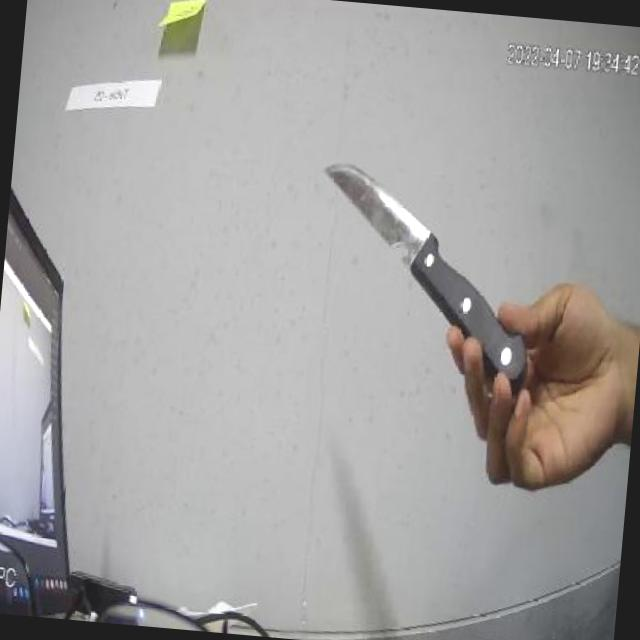knife: (304, 158, 544, 404)
